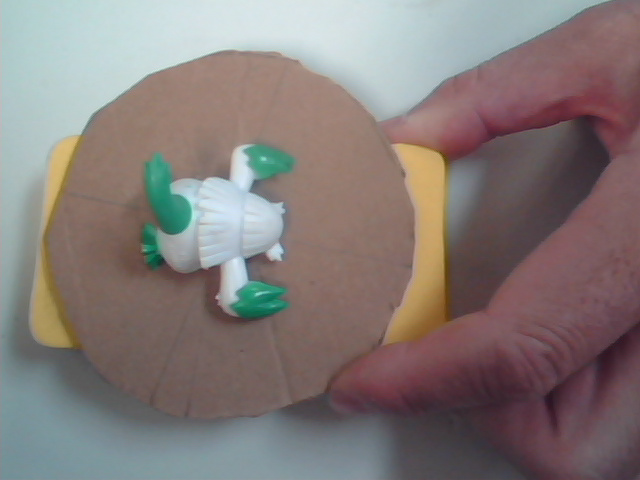abomasnow: (110, 120, 342, 346)
